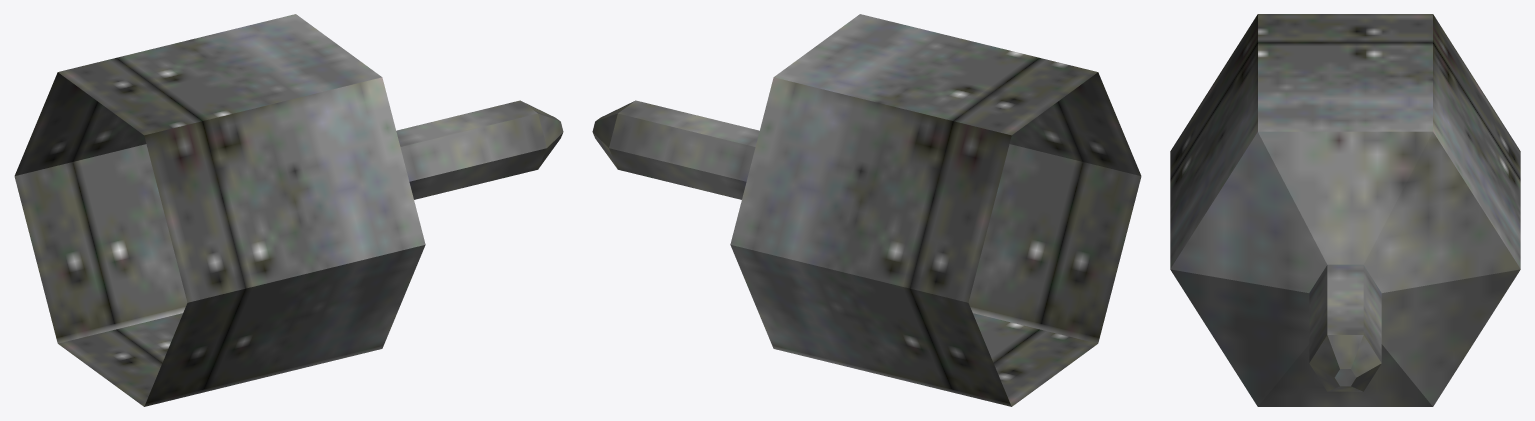
The model's file is pipe_endpiece_with_handle.fbx.
3 views of the same model, side by side, from view 1: azimuth 30°, elevation 25°; view 2: azimuth 150°, elevation 25°; view 3: azimuth 270°, elevation 25° (orthographic).
Visible parts, largest first — view 1: pipe_endpiece_with_handle; view 2: pipe_endpiece_with_handle; view 3: pipe_endpiece_with_handle.
Boxes of the visible parts, x1,y1,x2,y2 form: pipe_endpiece_with_handle: (14,14,563,406); pipe_endpiece_with_handle: (592,14,1141,406); pipe_endpiece_with_handle: (1170,14,1520,406).
Size of the model in its own units: 38.06 by 21.6 by 24.94.
Materials: 1 (1 with a texture image).
